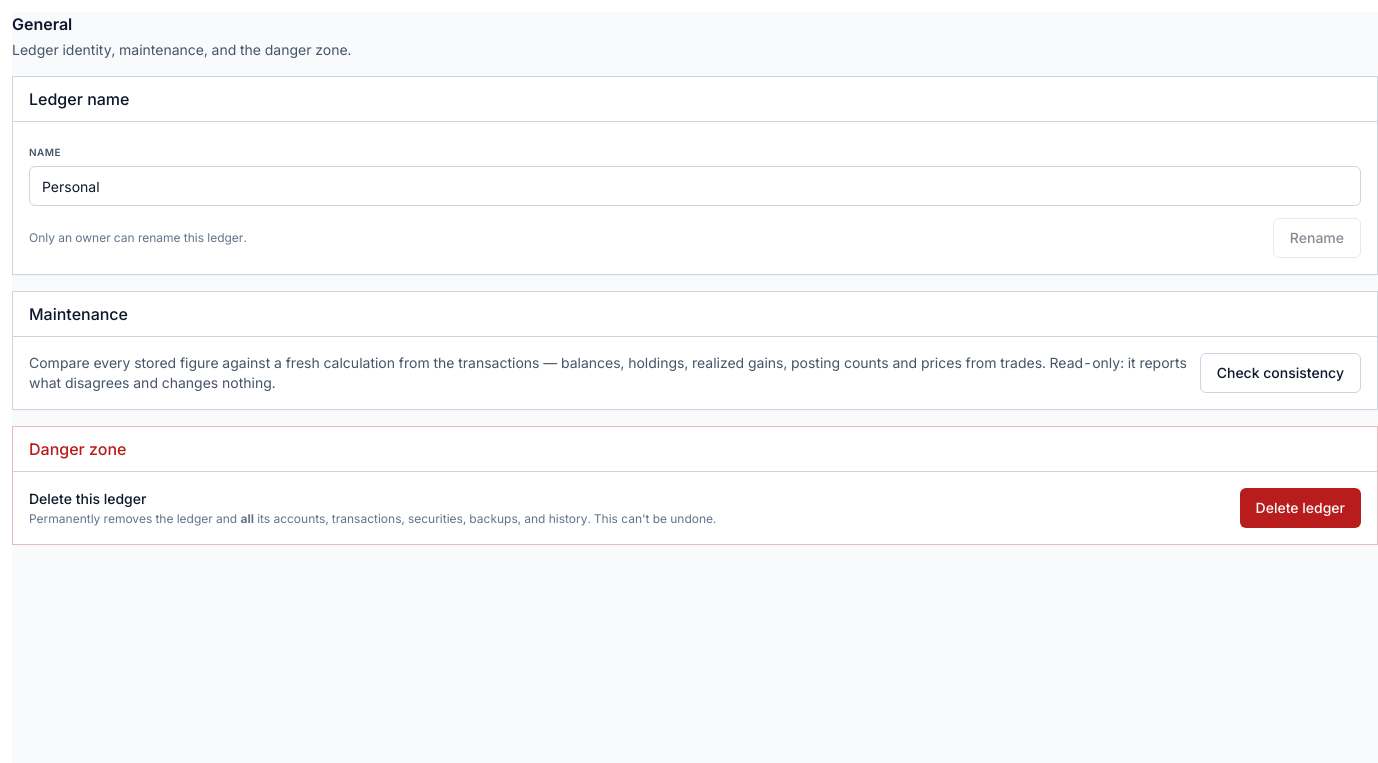
Scenario: GeneralPanel — consistency maintenance › labels every projection in prose, never as its API key
Click the button "Check consistency" at (1280, 373), box 1200,353 -> 1361,393
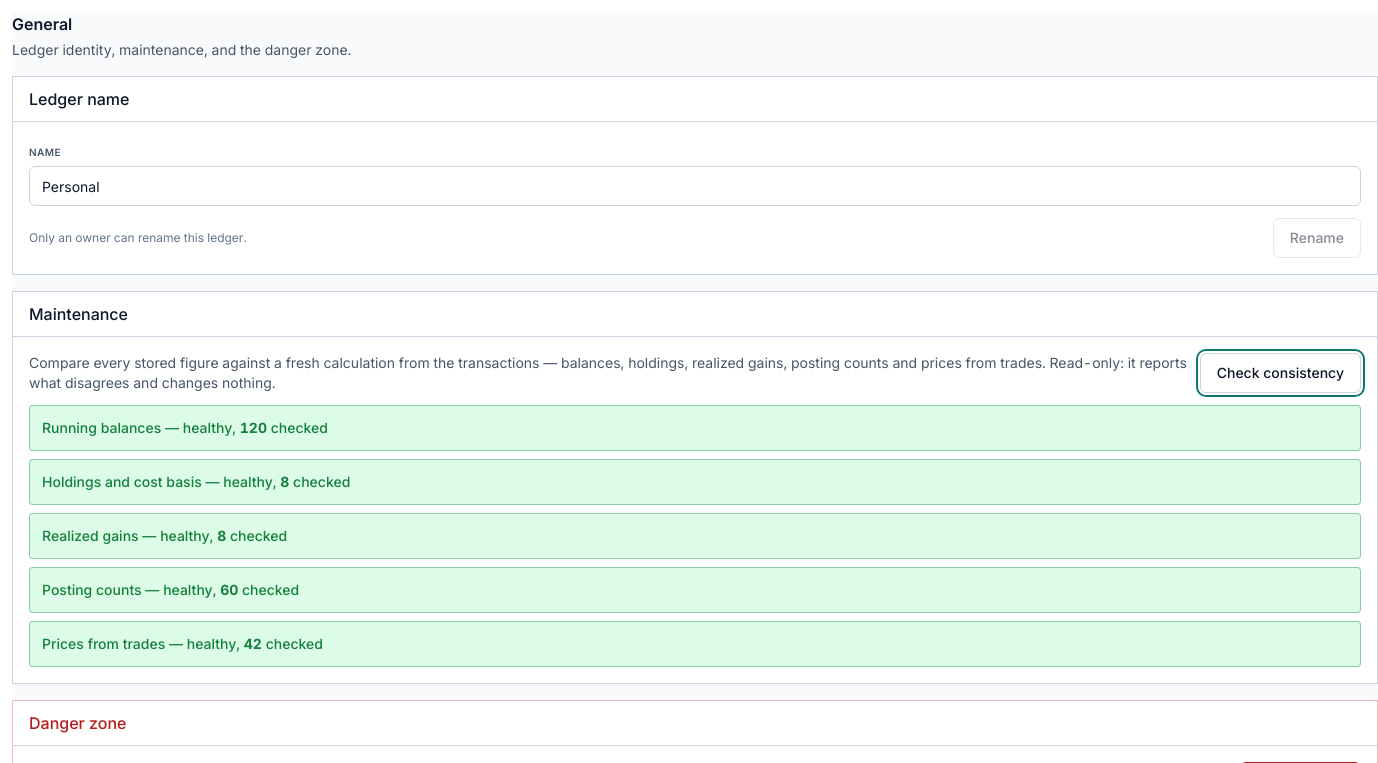
expect the text "Prices from trades — healthy, 42 checked" is shown: met, box 42,634 -> 323,654
